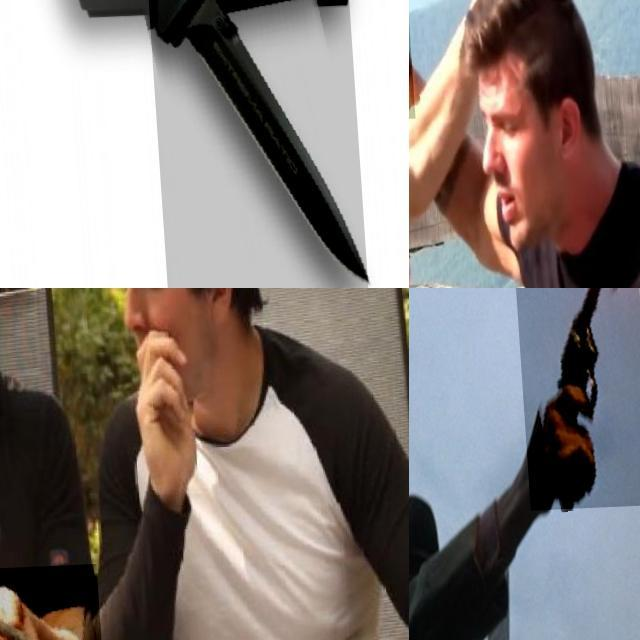-: (141, 0, 360, 288), (409, 0, 481, 126), (0, 567, 97, 640)
gun-knife-thesis - v11 Yolov5 augmented: (512, 288, 640, 514)
